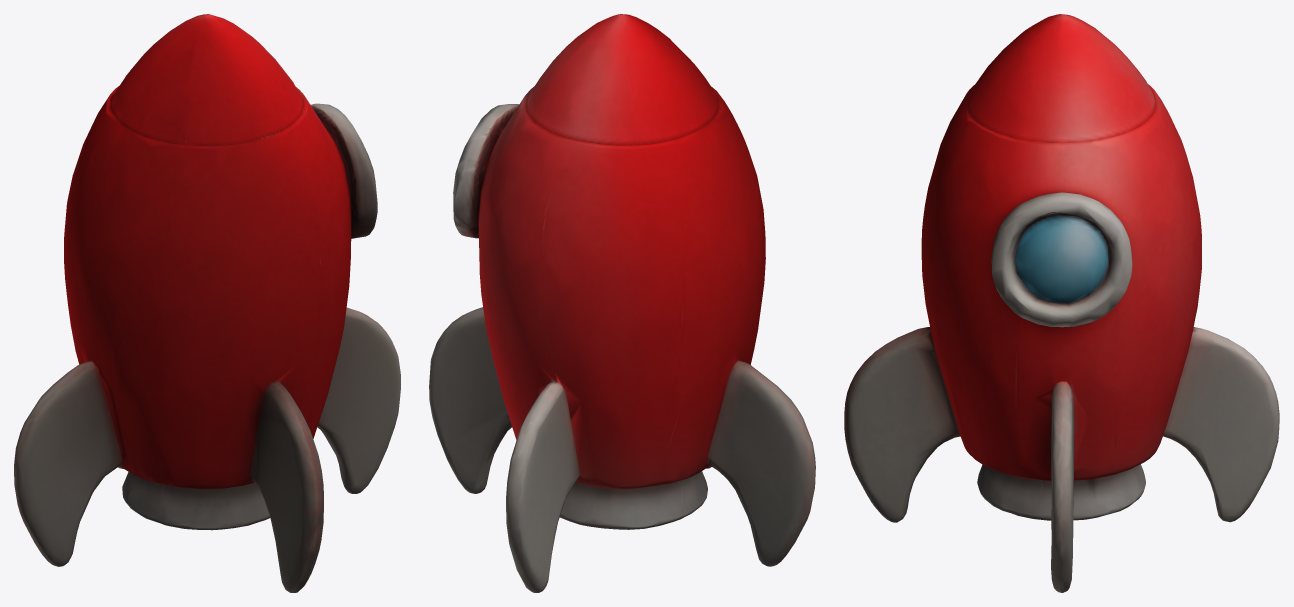
Rendered from rocket.glb.
3 views of the same model, side by side, from view 1: azimuth 30°, elevation 25°; view 2: azimuth 150°, elevation 25°; view 3: azimuth 270°, elevation 25° (orthographic).
Visible parts, largest first — view 1: geometry_0; view 2: geometry_0; view 3: geometry_0.
Part boxes in pixels (left/top/right/bottom): geometry_0: left=14, top=14, right=400, bottom=592; geometry_0: left=429, top=14, right=815, bottom=592; geometry_0: left=844, top=14, right=1279, bottom=592.
Bounding box in the file's own units: 1.17 × 1.5 × 1.17.
1 material, 1 textured.
